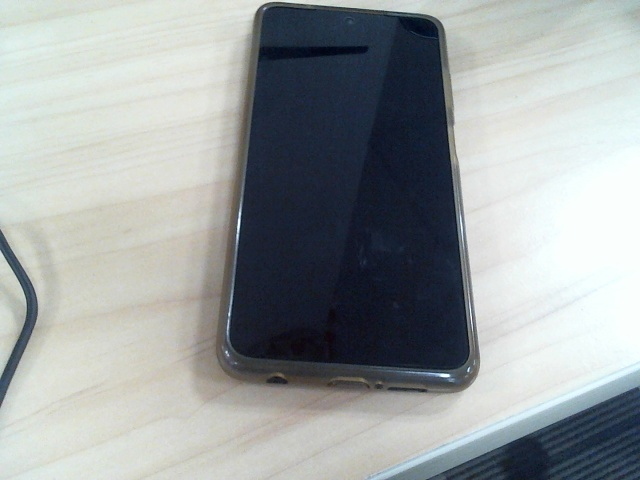handphone: (216, 1, 481, 394)
